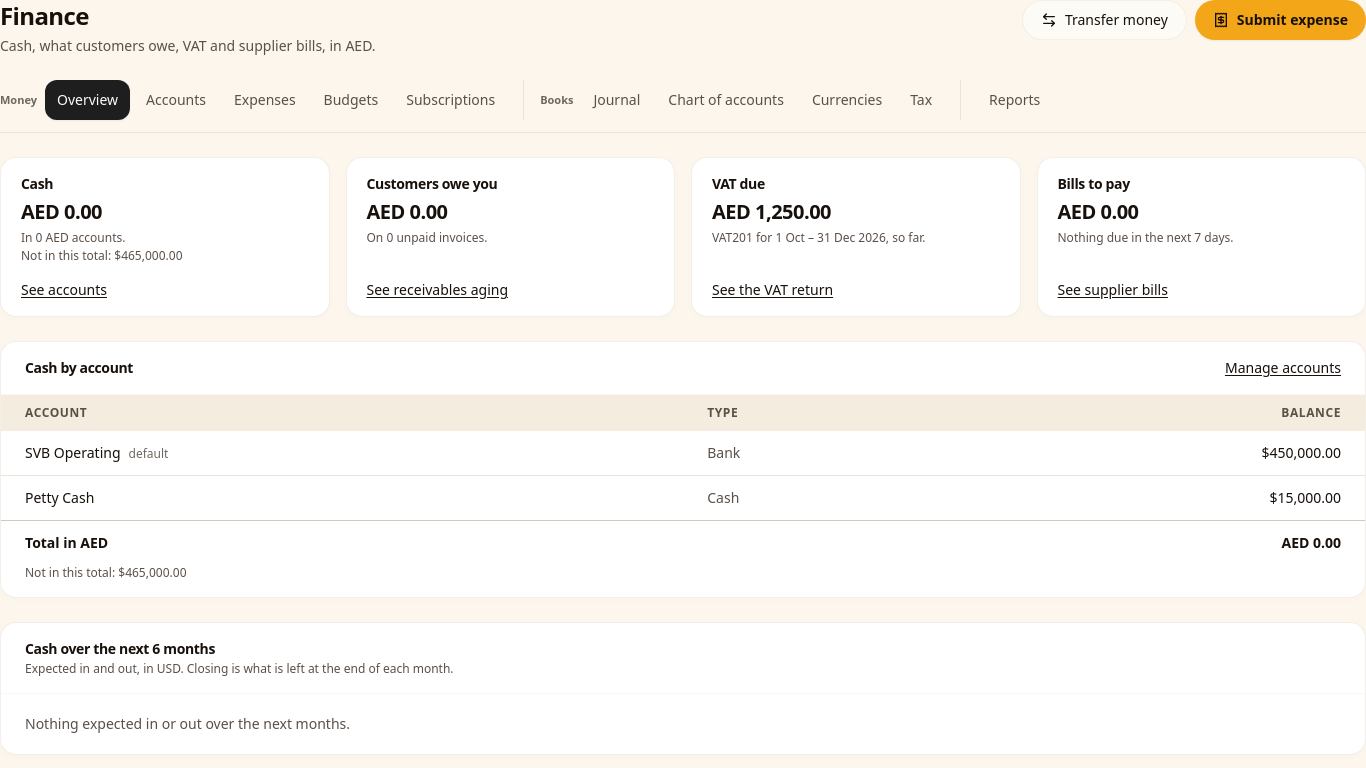
Test case: Finance Routes & Views Suite › FinanceOverviewView (/finance) › opens submit expense modal from quick action
Click the button with test id "overview-quick-expense-btn".
click(1280, 20)  # box [1195,0,1365,40]
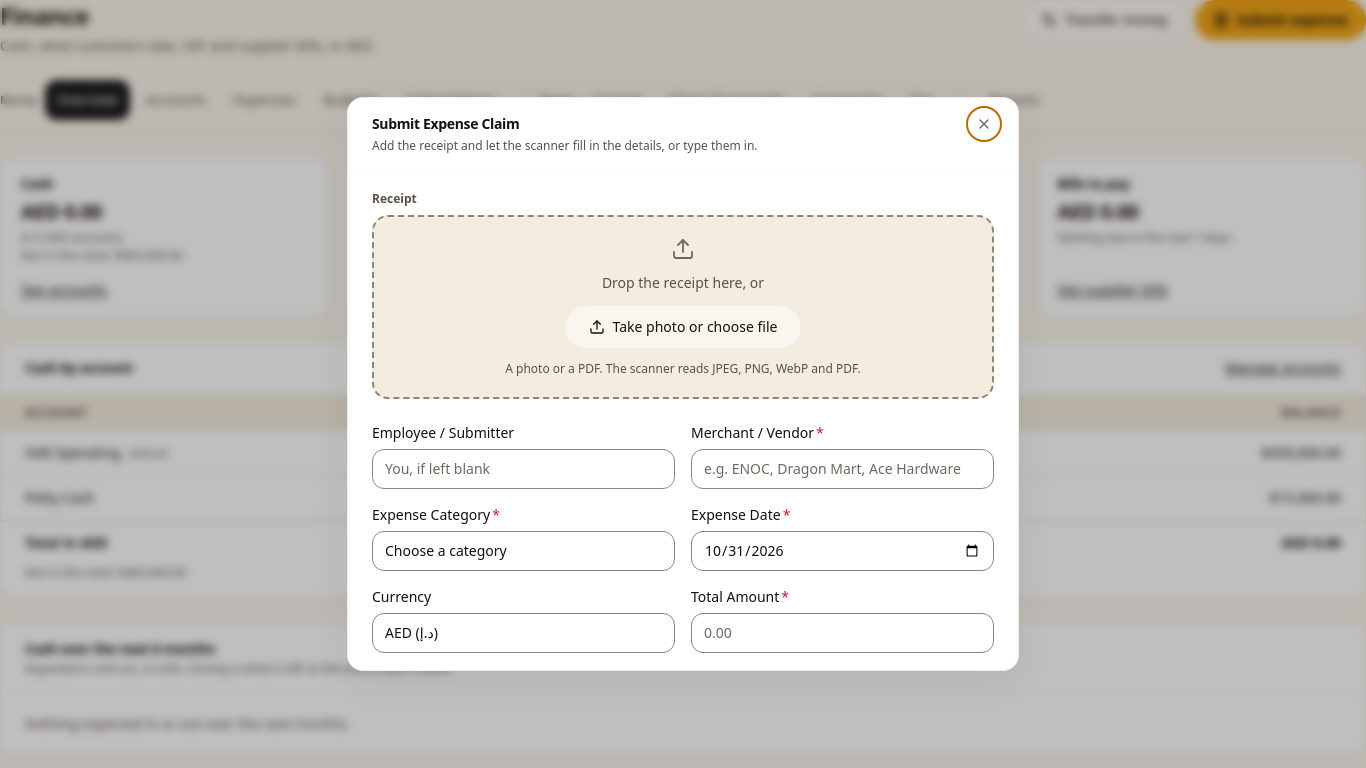
Expected: the heading "Submit Expense Claim" is shown, [372,114,519,133]
